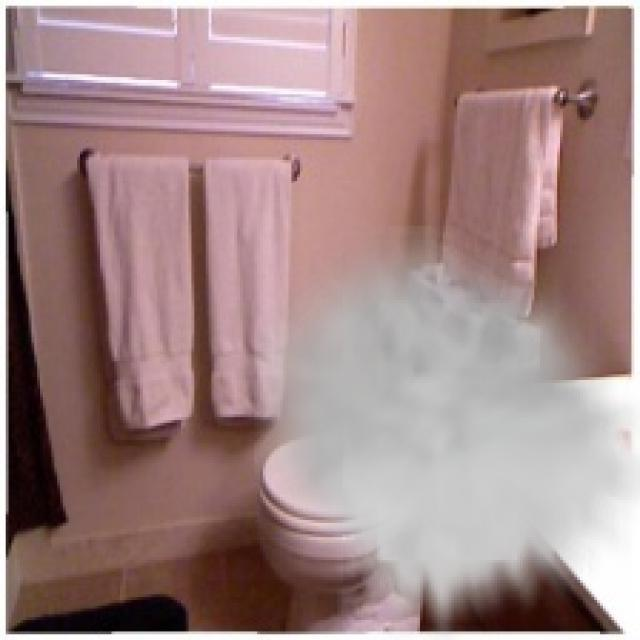Smoke: (254, 225, 637, 638)
